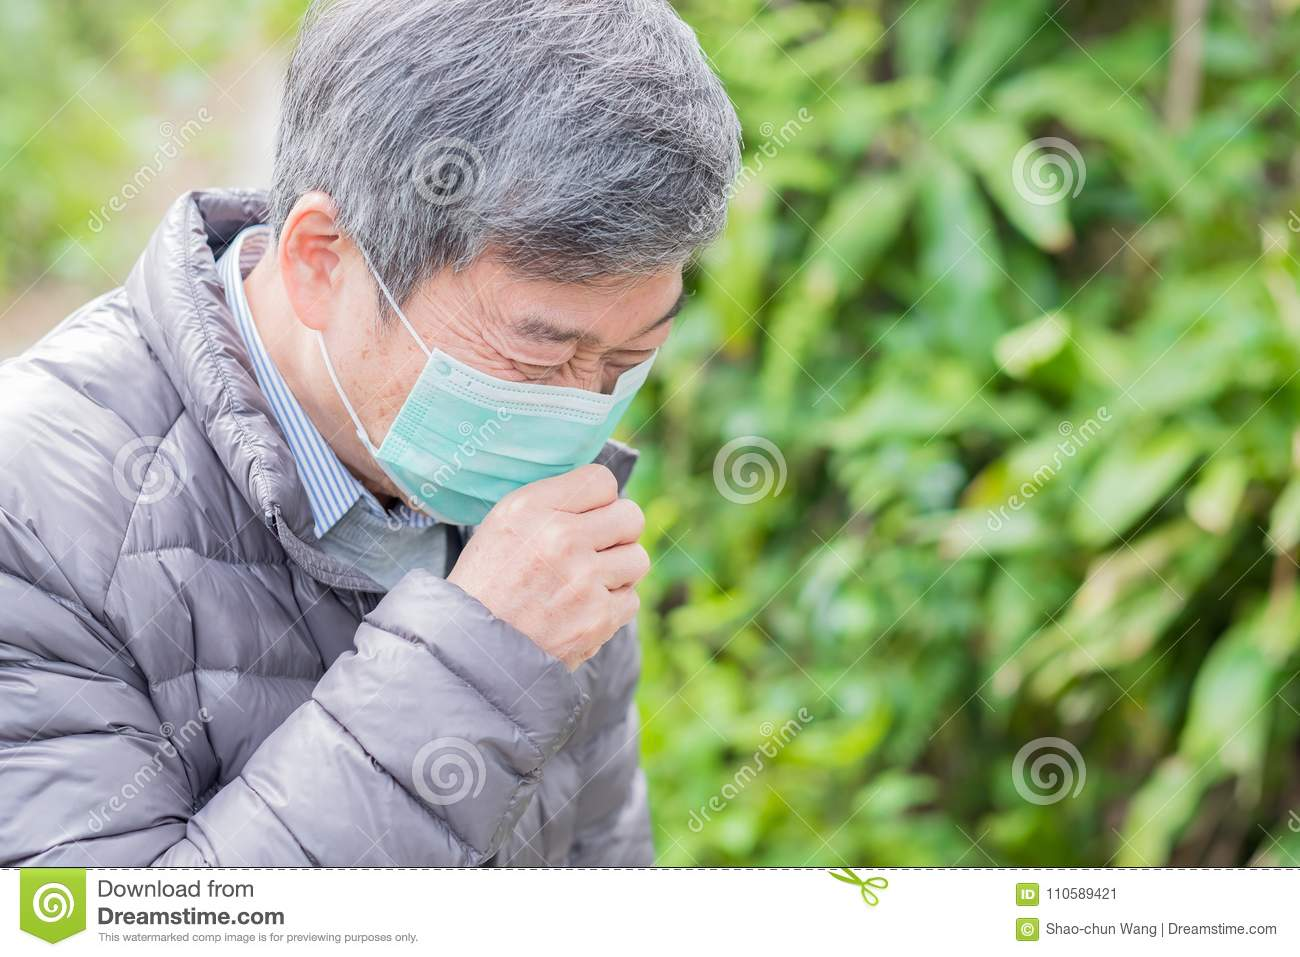mask: (385, 357, 660, 529)
